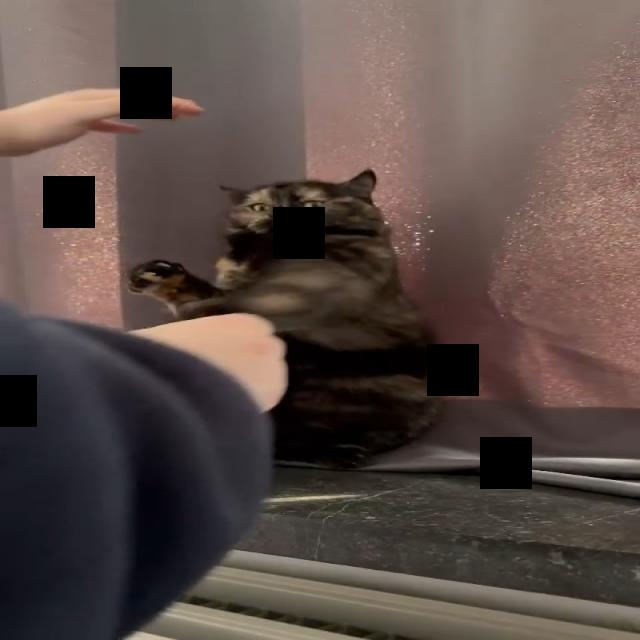authorized: (126, 168, 446, 470)
